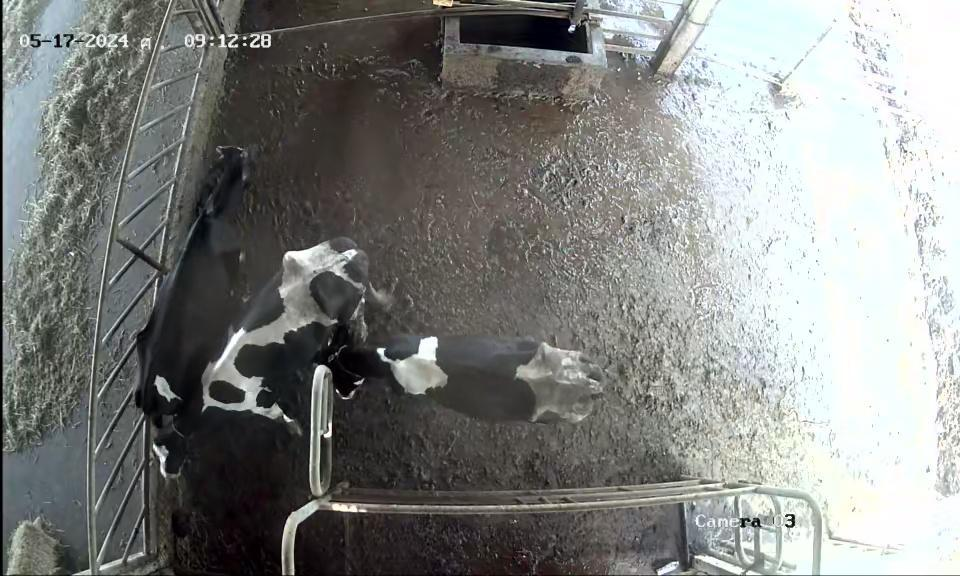stand: (150, 233, 371, 473), (125, 132, 253, 409), (328, 330, 612, 439)
